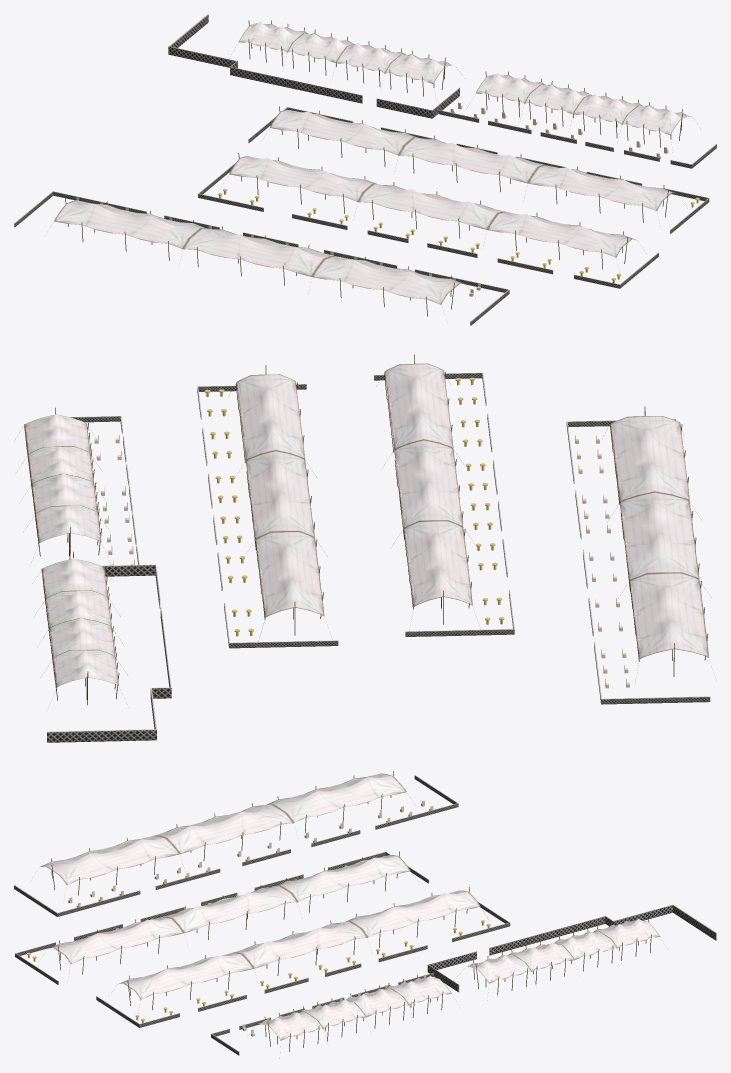
The model's file is Austin_track_landmark_05.dae.
3 views of the same model, one above another, from view 1: azimuth 30°, elevation 25°; view 2: azimuth 150°, elevation 25°; view 3: azimuth 270°, elevation 25° (orthographic). The views are drawn at different scales.
Visible parts, largest first — view 1: Austin_track_landmark_05; view 2: Austin_track_landmark_05; view 3: Austin_track_landmark_05.
Part boxes in pixels (x1,y1,x2,y2): Austin_track_landmark_05: (14,14,716,325); Austin_track_landmark_05: (15,354,710,742); Austin_track_landmark_05: (14,771,716,1058).
Size of the model in its own units: 18.46 by 19.59 by 0.8267.
Materials: 1 (1 with a texture image).
